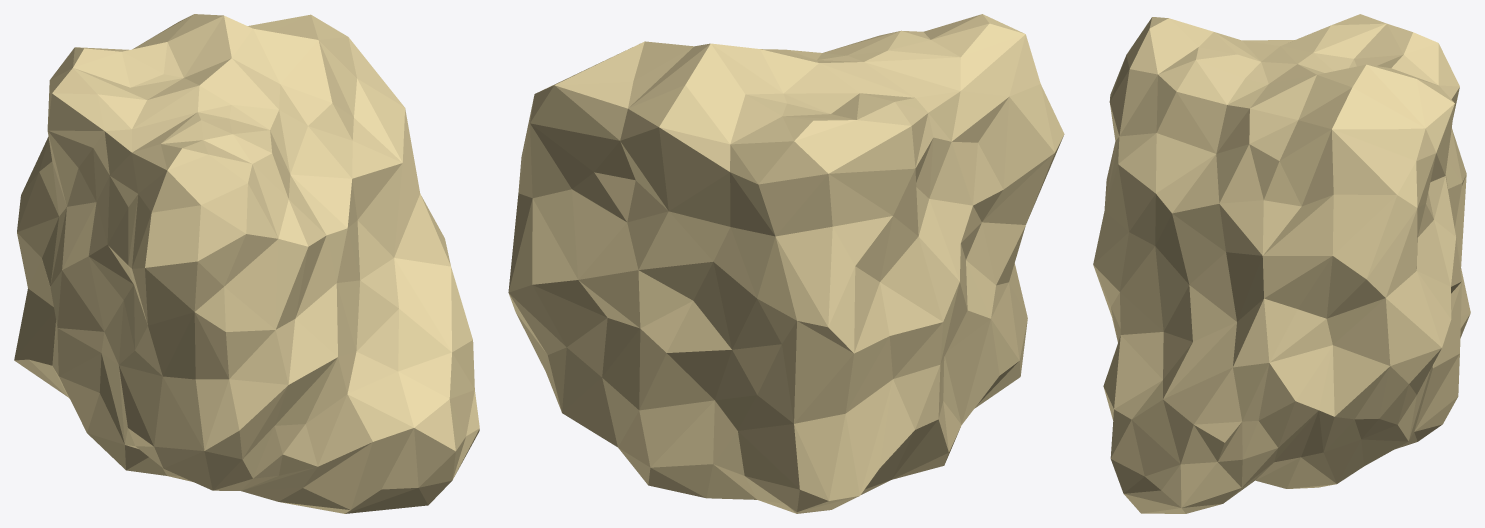
File: Asteroid (29).fbx
3 views of the same model, side by side, from view 1: azimuth 30°, elevation 25°; view 2: azimuth 150°, elevation 25°; view 3: azimuth 270°, elevation 25° (orthographic). The views are drawn at different scales.
Visible parts, largest first — view 1: Asteroid102; view 2: Asteroid102; view 3: Asteroid102.
Boxes of the visible parts, x1,y1,x2,y2 form: Asteroid102: [14, 14, 479, 513]; Asteroid102: [508, 14, 1064, 513]; Asteroid102: [1093, 14, 1470, 513].
Bounding box in the file's own units: 253 × 274 × 228.
